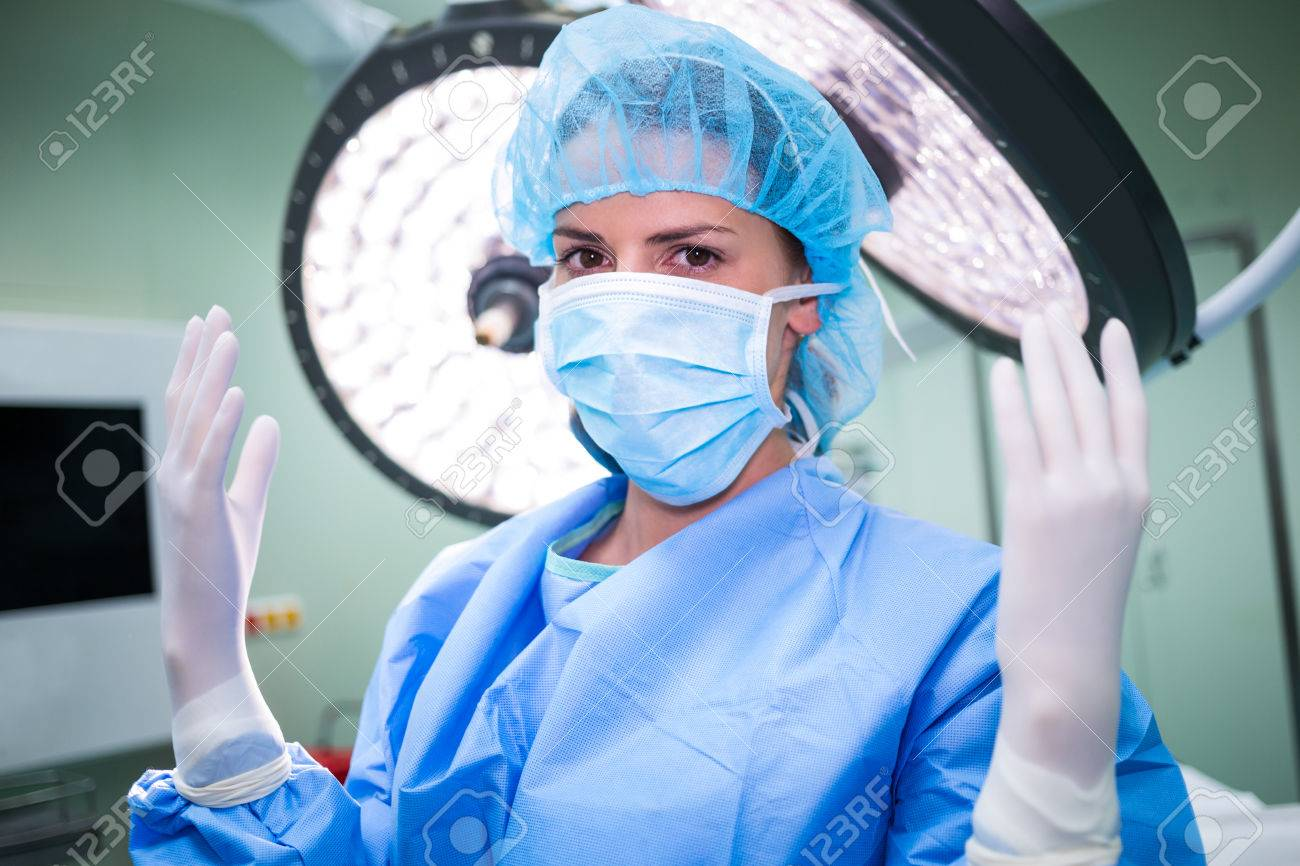Gloves: (959, 300, 1165, 765), (144, 305, 312, 777)
with_mask: (545, 206, 775, 486)
